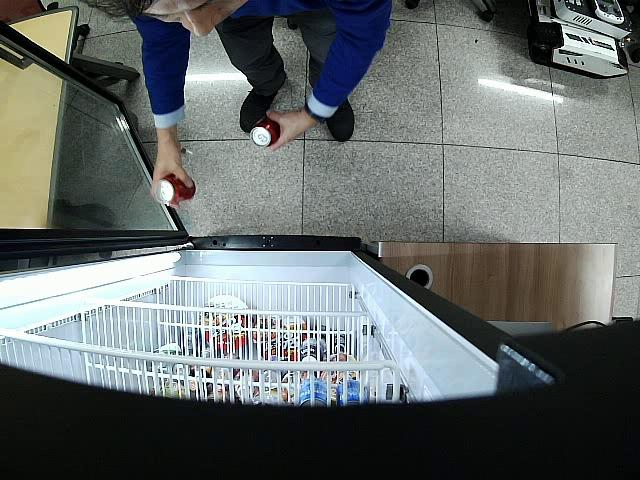00_hand: (150, 139, 193, 209), (265, 107, 314, 151)
11_cocaColaZero: (154, 174, 196, 206), (250, 116, 280, 148)
